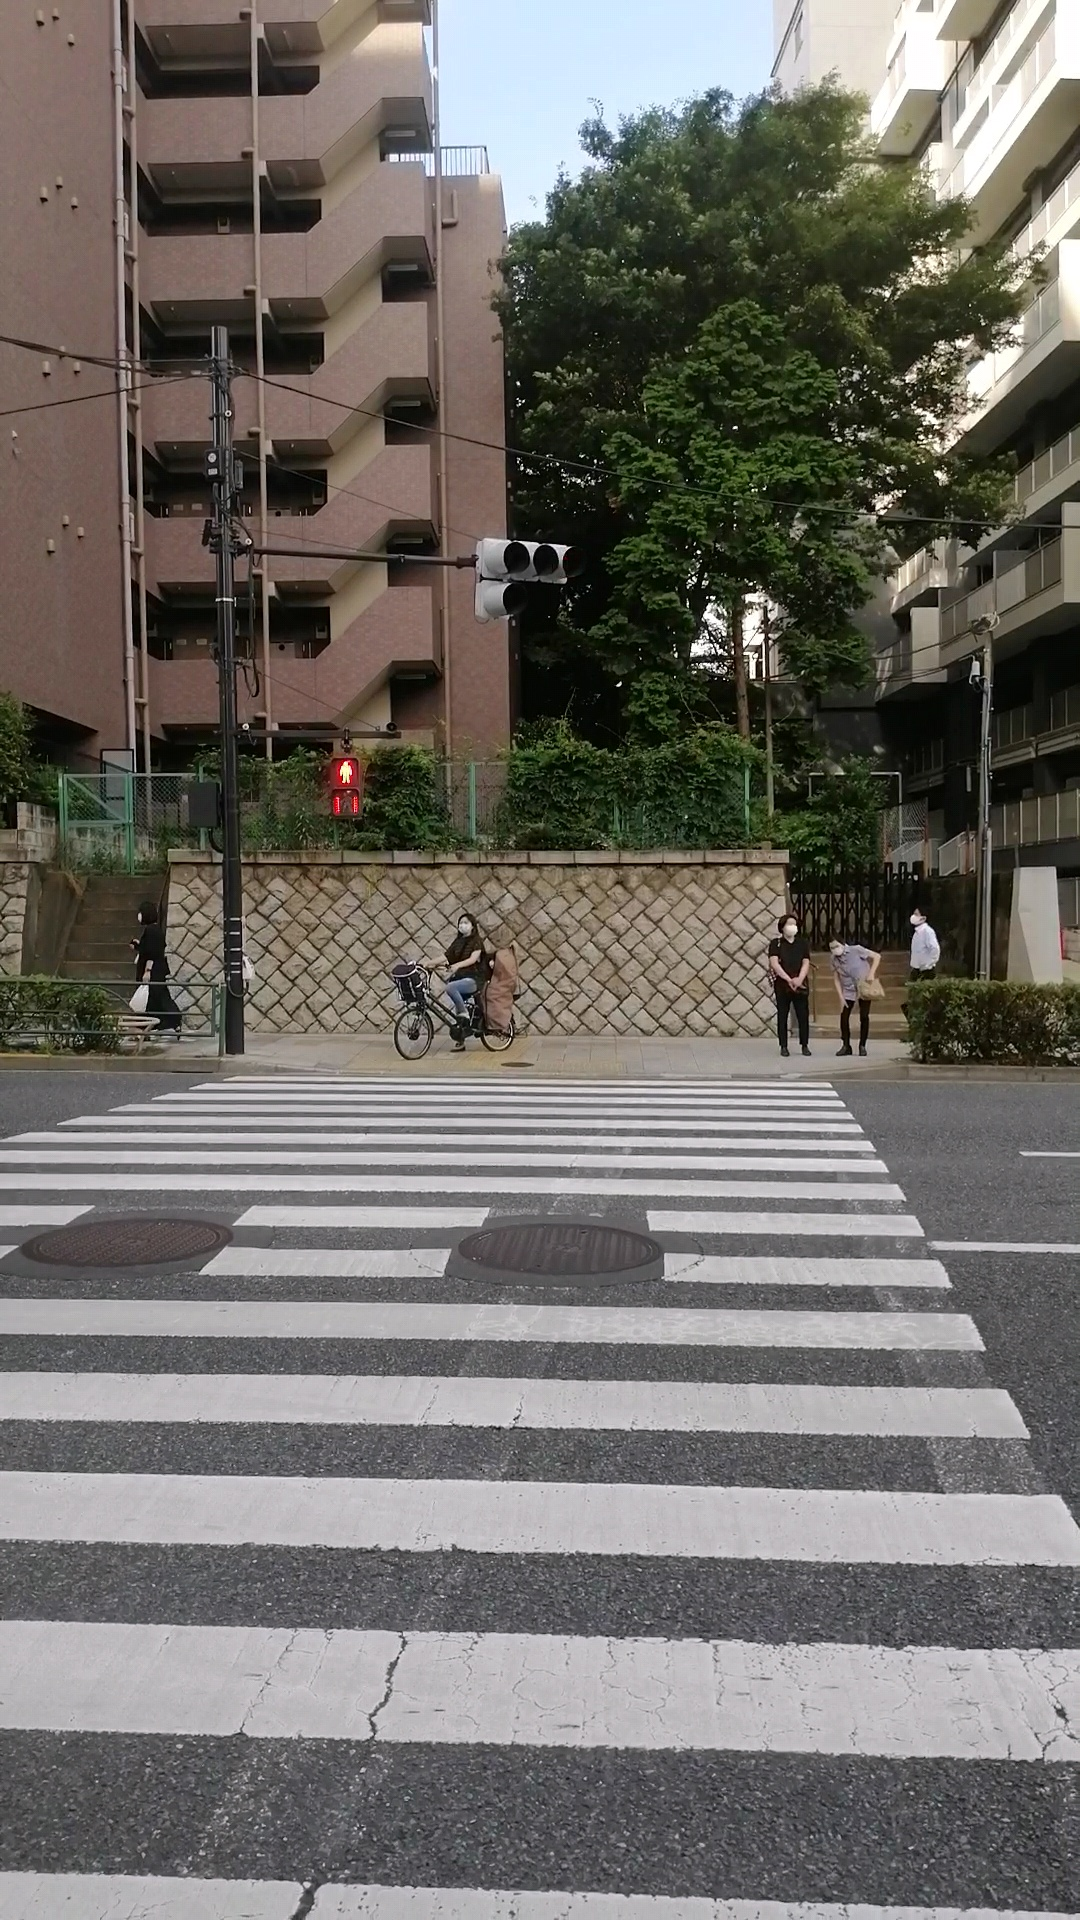red: (328, 754, 363, 818)
